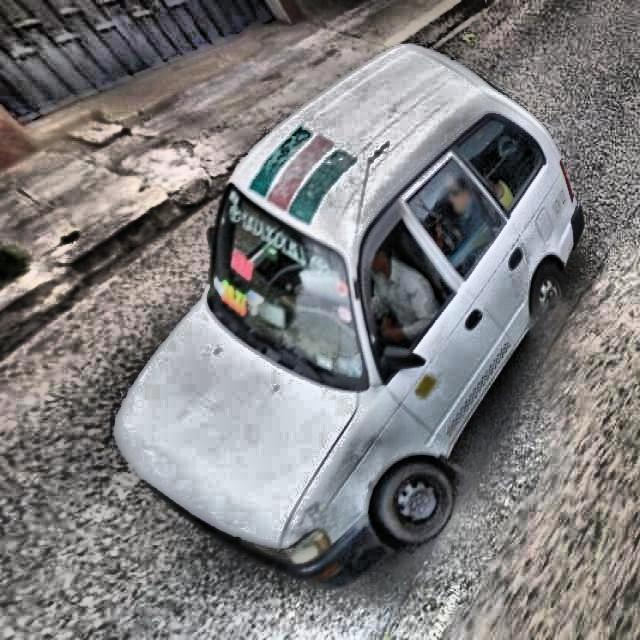carro: (120, 51, 589, 581)
